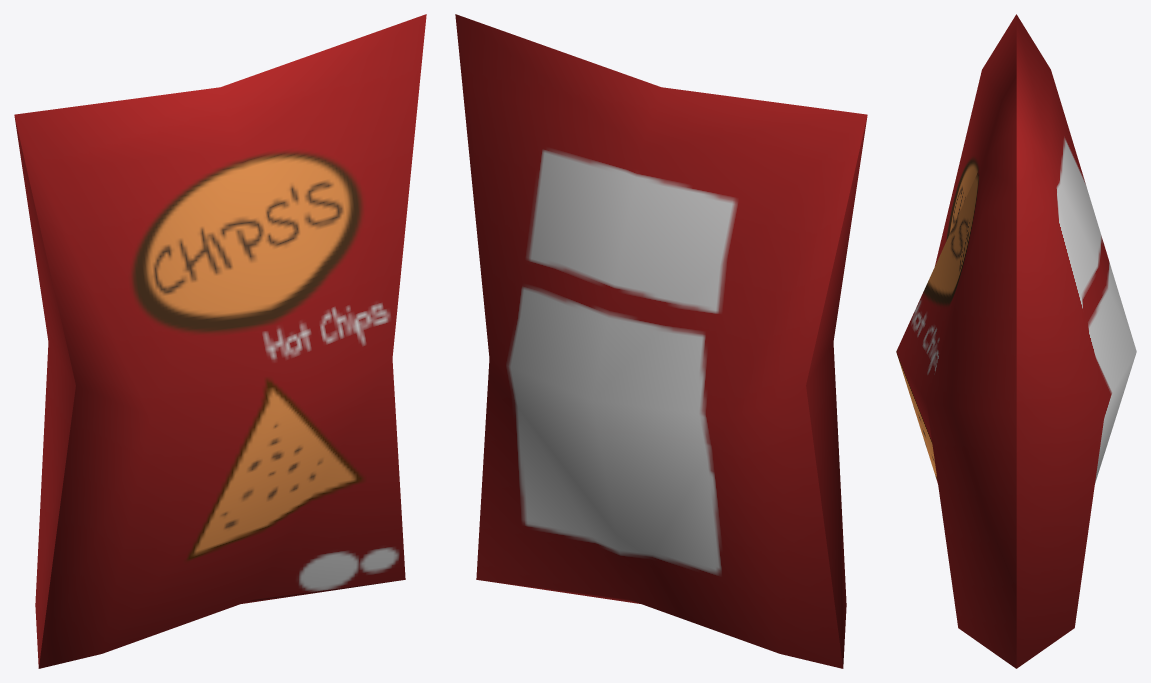
The model's file is Chips_03.fbx.
The picture shows the model from 3 angles, left to right: view 1: azimuth 30°, elevation 25°; view 2: azimuth 150°, elevation 25°; view 3: azimuth 270°, elevation 25°; orthographic projection. The views are drawn at different scales.
Visible parts, largest first — view 1: Chips_03; view 2: Chips_03; view 3: Chips_03.
Part boxes in pixels (bbox=[...]): Chips_03: bbox=[14, 14, 426, 668]; Chips_03: bbox=[455, 14, 867, 668]; Chips_03: bbox=[896, 14, 1136, 668].
Size of the model in its own units: 18.7 by 24.28 by 10.81.
